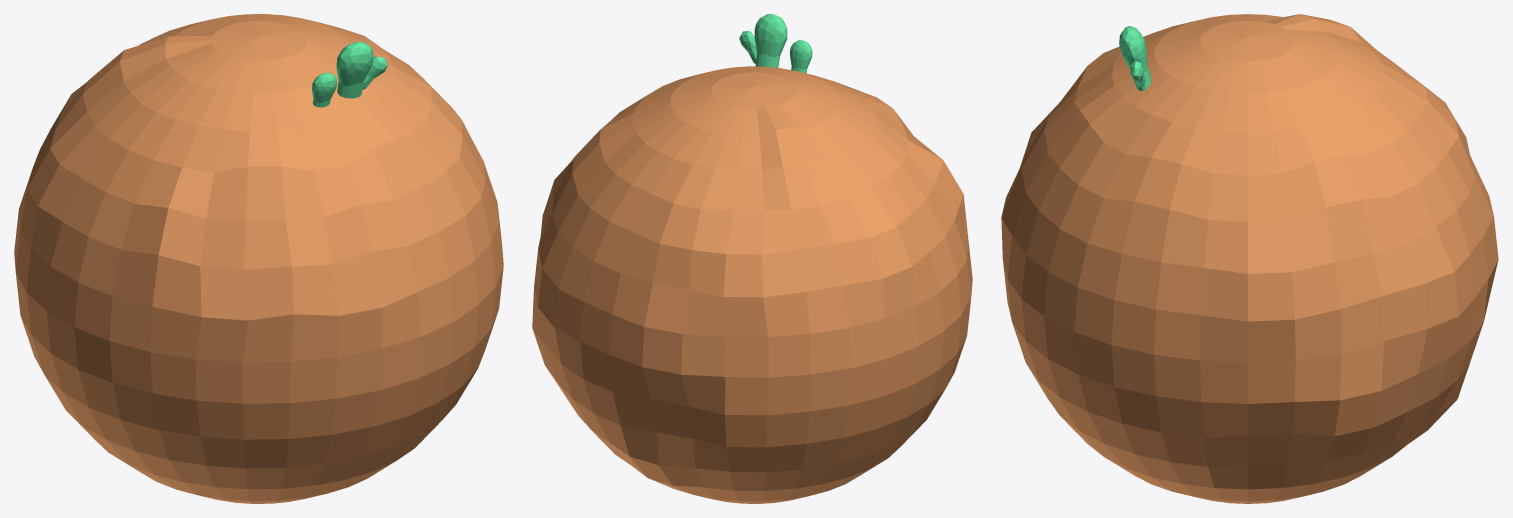
The model's file is planet.glb.
The picture shows the model from 3 angles, left to right: view 1: azimuth 30°, elevation 25°; view 2: azimuth 150°, elevation 25°; view 3: azimuth 270°, elevation 25°; orthographic projection. The views are drawn at different scales.
Visible parts, largest first — view 1: Sphere, Mball.002, Mball.000; view 2: Sphere, Mball.002, Mball.000; view 3: Sphere, Mball.002.
Part boxes in pixels (x1,y1,x2,y2): Sphere: (14,14,503,503); Mball.002: (336,41,373,98); Mball.000: (312,72,337,107); Sphere: (532,66,972,503); Mball.002: (754,14,787,67); Mball.000: (790,40,812,73); Sphere: (1001,14,1498,503); Mball.002: (1119,26,1151,90).
Bounding box in the file's own units: 2.02 × 2.12 × 2.03.
